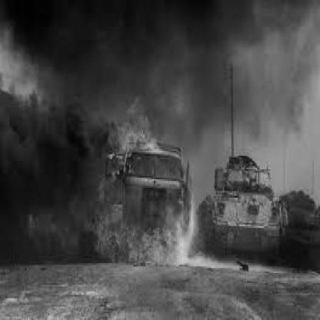Fire: (84, 126, 197, 264), (20, 208, 56, 235)
Smoke: (13, 1, 319, 119)
